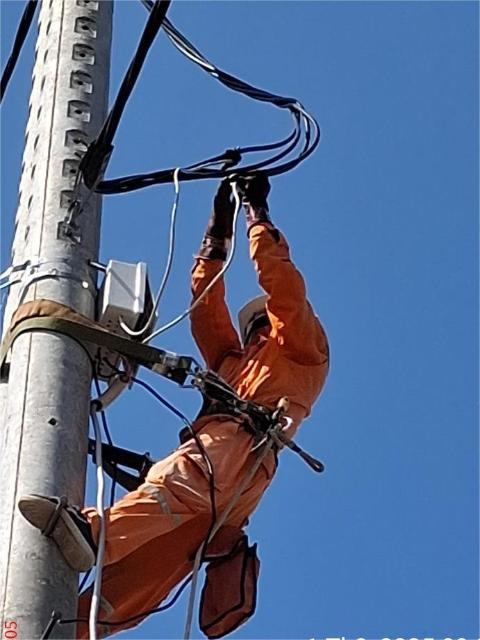gloves: (184, 163, 247, 259), (243, 165, 284, 244)
harness: (146, 357, 317, 474)
helmet: (229, 276, 297, 338)
shoes: (17, 484, 106, 567)
